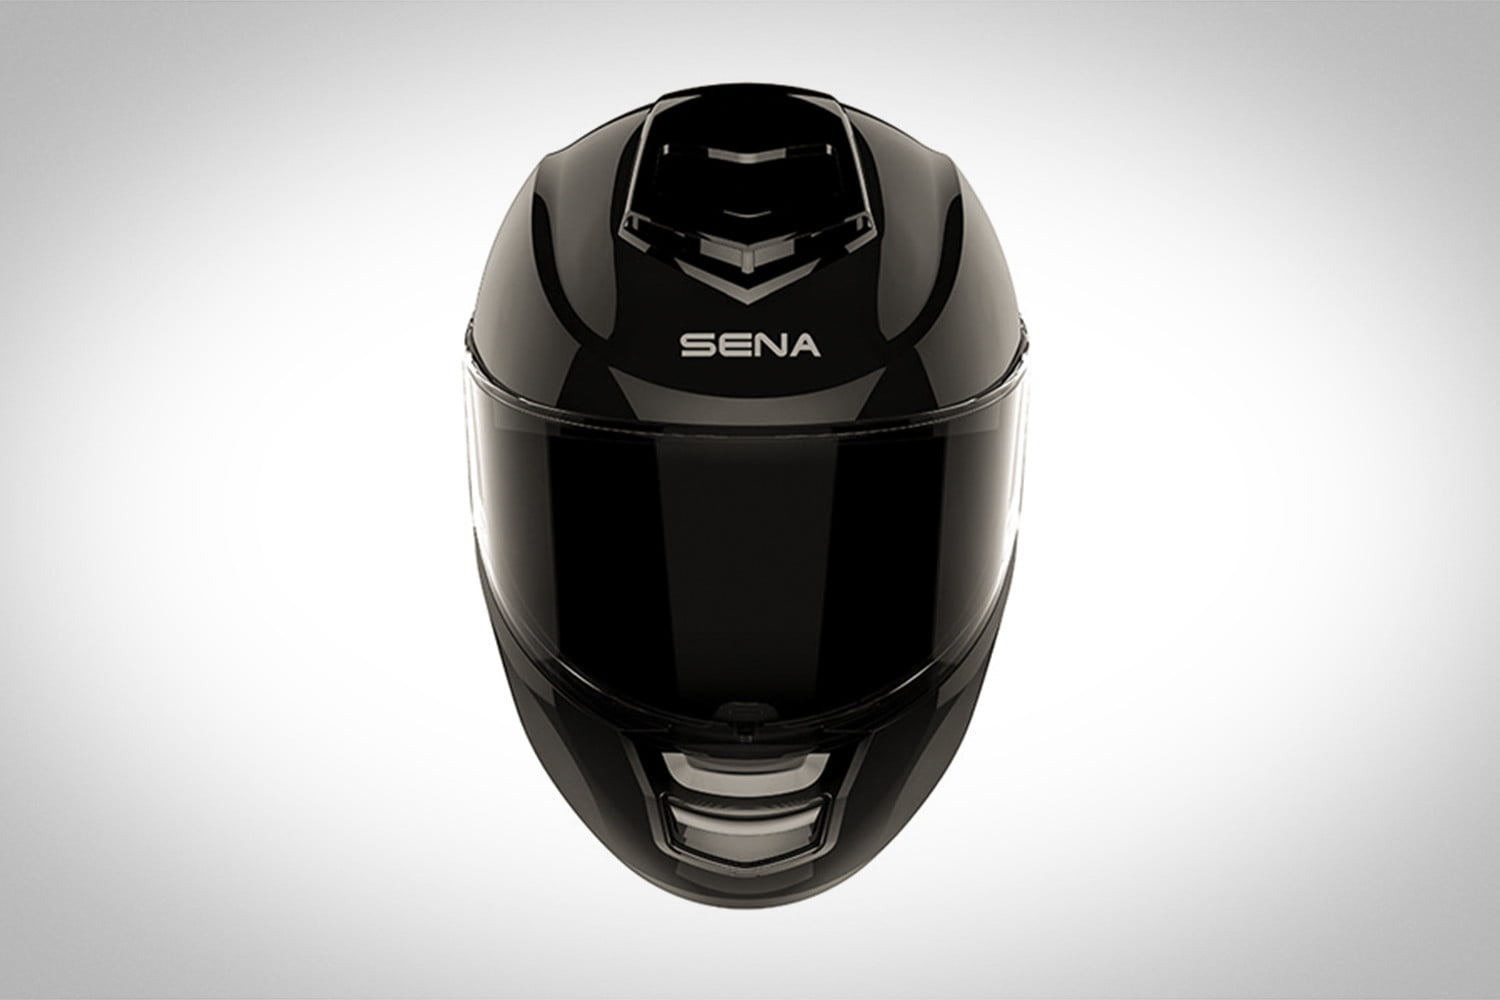with_helmet: (452, 75, 1035, 917)
